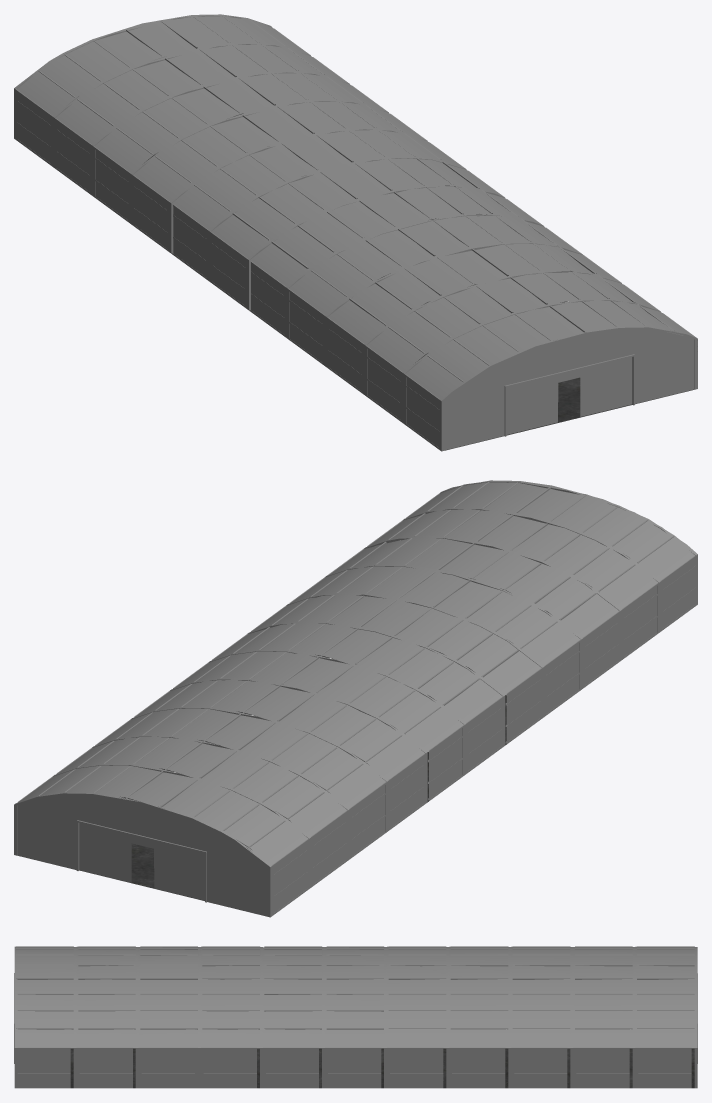
The model's file is warehouse.walls-v3.lod1.glb.
3 renders of one model, top to bottom at view 1: azimuth 30°, elevation 25°; view 2: azimuth 150°, elevation 25°; view 3: azimuth 270°, elevation 25°, orthographic. The views are drawn at different scales.
Parts seen in each view (by area): view 1: NurbsPath.005_Metal_0, NurbsPath.005_WetConcrete_0; view 2: NurbsPath.005_Metal_0, NurbsPath.005_WetConcrete_0; view 3: NurbsPath.005_Metal_0, NurbsPath.005_WetConcrete_0.
Part boxes in pixels (x1,y1,x2,y2): NurbsPath.005_Metal_0: [14, 14, 697, 451]; NurbsPath.005_WetConcrete_0: [144, 113, 693, 450]; NurbsPath.005_Metal_0: [14, 480, 697, 917]; NurbsPath.005_WetConcrete_0: [79, 578, 591, 900]; NurbsPath.005_Metal_0: [14, 946, 697, 1088]; NurbsPath.005_WetConcrete_0: [70, 1048, 694, 1088].
Size of the model in its own units: 16 by 5.02 by 46.27.
Materials: 3 (1 with a texture image).
